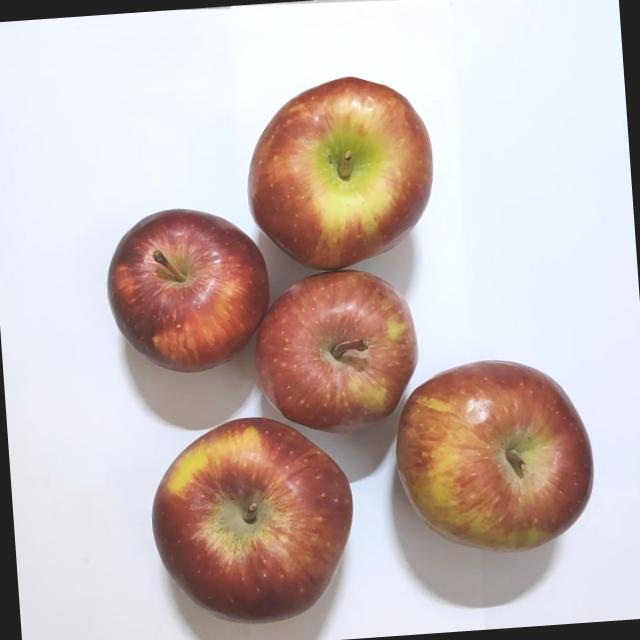apple: (132, 406, 365, 640), (380, 342, 602, 576), (233, 74, 449, 287), (245, 264, 426, 442), (100, 205, 273, 383)
